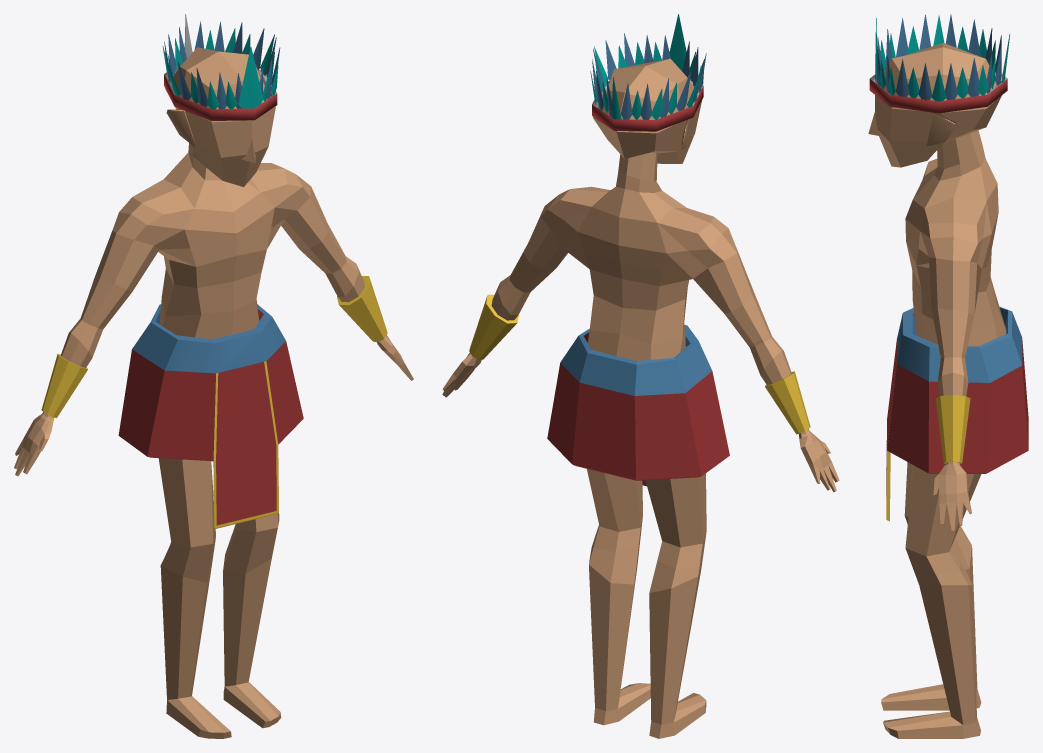
Rendered from indio_T2.fbx.
3 views of the same model, side by side, from view 1: azimuth 30°, elevation 25°; view 2: azimuth 150°, elevation 25°; view 3: azimuth 270°, elevation 25° (orthographic). The views are drawn at different scales.
Parts seen in each view (by area): view 1: indio_06t:pCone2; view 2: indio_06t:pCone2; view 3: indio_06t:pCone2.
Boxes of the visible parts, bbox=[...] form: indio_06t:pCone2: bbox=[14, 14, 413, 738]; indio_06t:pCone2: bbox=[442, 14, 839, 738]; indio_06t:pCone2: bbox=[868, 14, 1028, 738].
Bounding box in the file's own units: 3.88 × 6.44 × 1.34.
